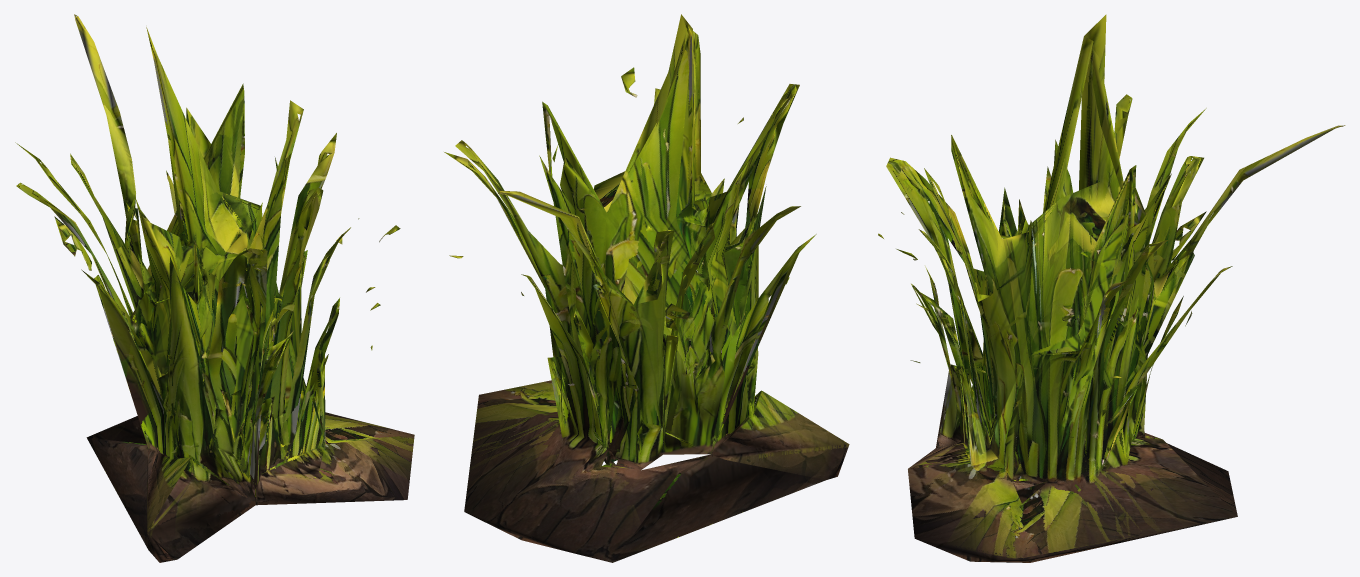
Rendered from Crop_Rice_Growing.fbx.
3 renders of one model, left to right at view 1: azimuth 30°, elevation 25°; view 2: azimuth 150°, elevation 25°; view 3: azimuth 270°, elevation 25°, orthographic. The views are drawn at different scales.
Parts seen in each view (by area): view 1: texture_mapping; view 2: texture_mapping; view 3: texture_mapping.
Part boxes in pixels (x1,y1,x2,y2): texture_mapping: (15, 14, 414, 562); texture_mapping: (444, 14, 849, 562); texture_mapping: (878, 14, 1345, 562).
Size of the model in its own units: 0.6452 by 0.7557 by 0.8262.
1 material, 1 textured.
